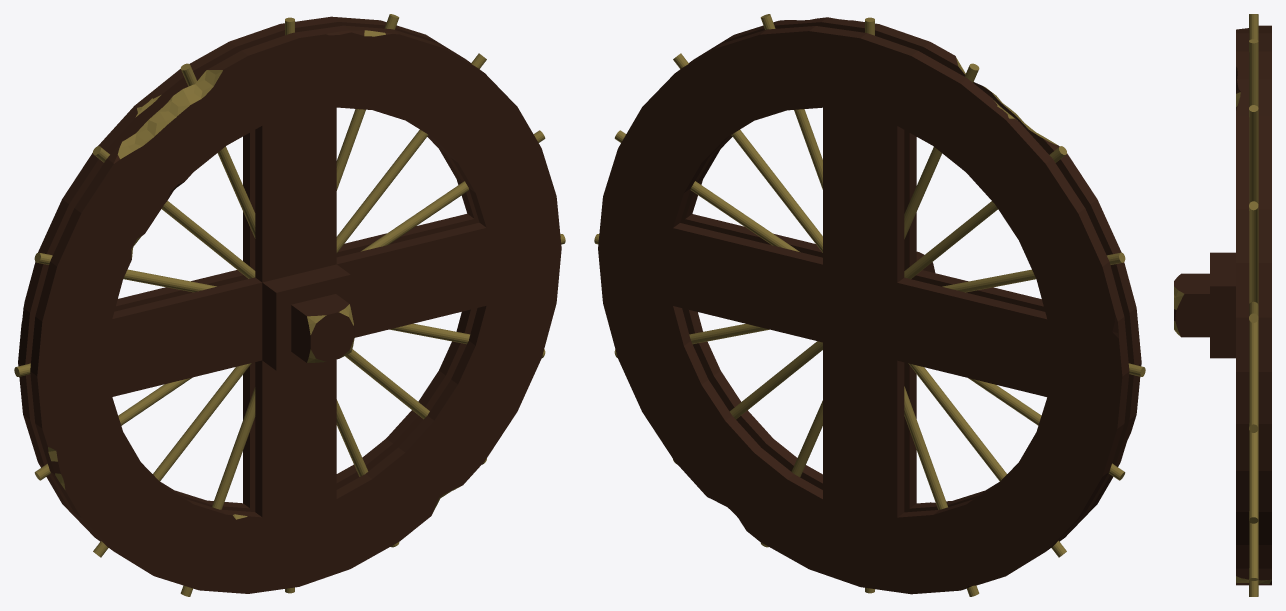
Rendered from 3D_Wheel.fbx.
3 renders of one model, left to right at view 1: azimuth 30°, elevation 25°; view 2: azimuth 150°, elevation 25°; view 3: azimuth 270°, elevation 25°, orthographic. The views are drawn at different scales.
Visible parts, largest first — view 1: Wooden Wheel; view 2: Wooden Wheel; view 3: Wooden Wheel.
Part boxes in pixels (bbox=[...]): Wooden Wheel: bbox=[14, 14, 565, 596]; Wooden Wheel: bbox=[594, 14, 1145, 596]; Wooden Wheel: bbox=[1174, 14, 1271, 596].
Bounding box in the file's own units: 909 × 909 × 152.
